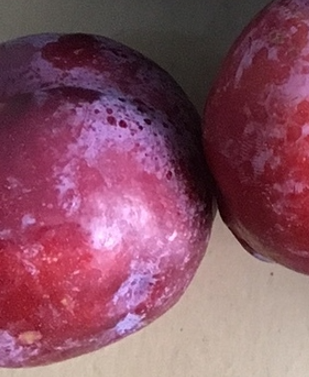plum_B: (1, 32, 214, 368)
